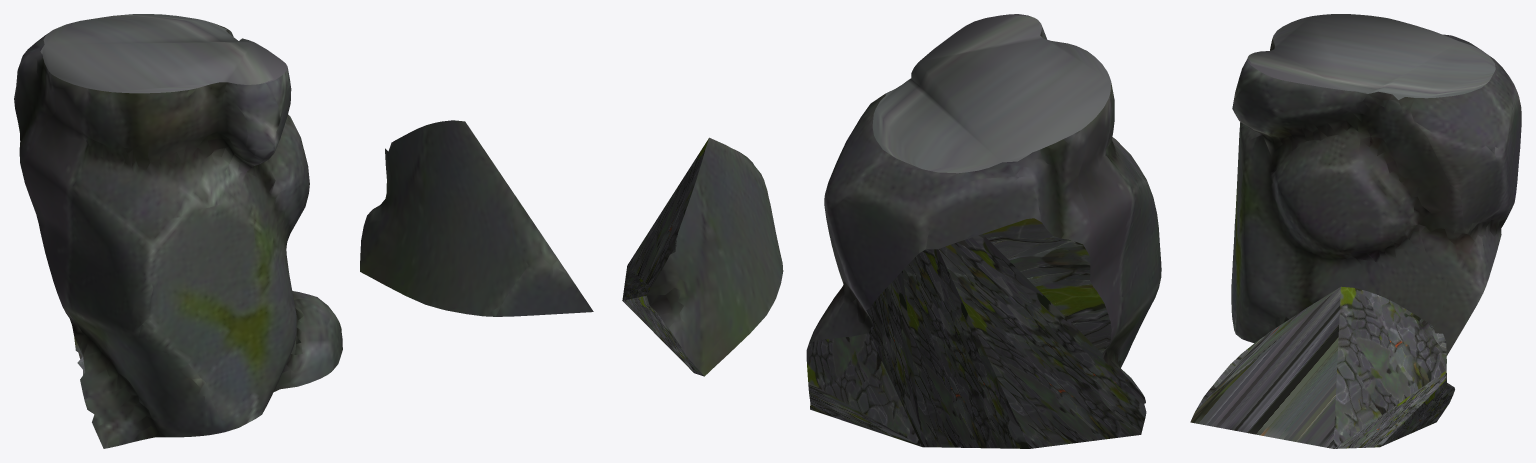
File: Frag_12.gltf
3 views of the same model, side by side, from view 1: azimuth 30°, elevation 25°; view 2: azimuth 150°, elevation 25°; view 3: azimuth 270°, elevation 25° (orthographic). The views are drawn at different scales.
Parts seen in each view (by area): view 1: Frag_12; view 2: Frag_12; view 3: Frag_12.
Boxes of the visible parts, left/top/right/bottom form: Frag_12: left=14, top=14, right=593, bottom=448; Frag_12: left=622, top=14, right=1161, bottom=448; Frag_12: left=1190, top=14, right=1521, bottom=448.
Size of the model in its own units: 0.3973 by 0.2736 by 0.2702.
Materials: 1 (1 with a texture image).
